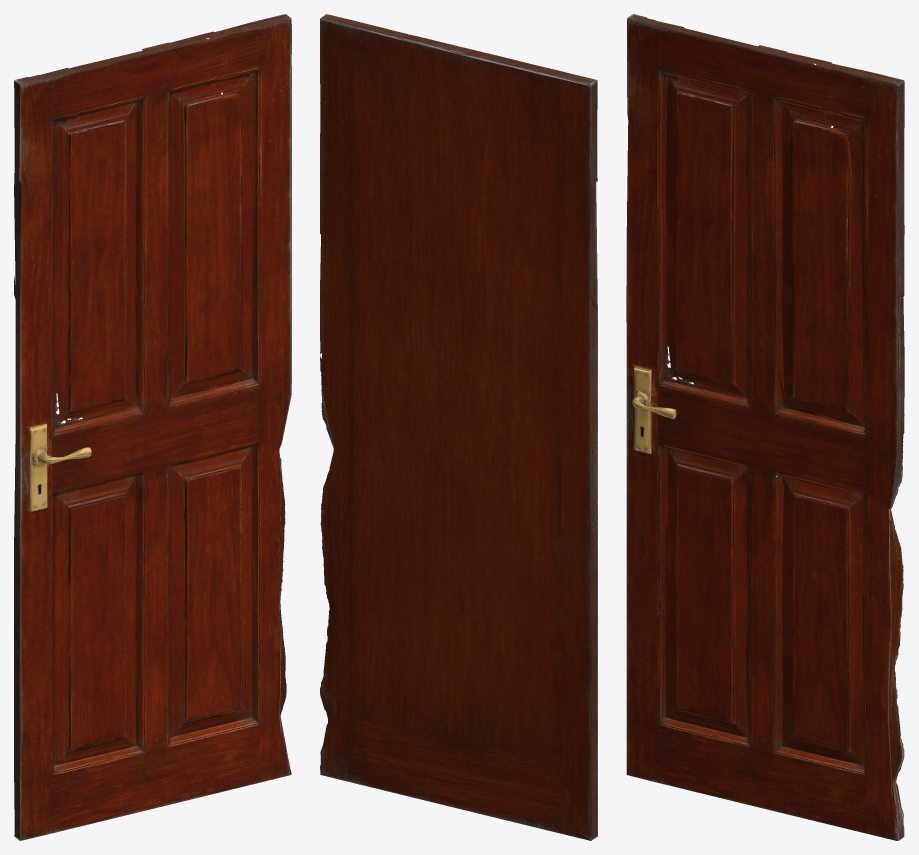
The model's file is w5frontdoor.glb.
3 renders of one model, left to right at view 1: azimuth 30°, elevation 25°; view 2: azimuth 150°, elevation 25°; view 3: azimuth 330°, elevation 25°, orthographic.
Parts seen in each view (by area): view 1: output_unwrapped; view 2: output_unwrapped; view 3: output_unwrapped.
Part boxes in pixels (<box>): output_unwrapped: <box>14,14,291,840</box>; output_unwrapped: <box>320,14,597,840</box>; output_unwrapped: <box>626,14,904,840</box>.
Bounding box in the file's own units: 0.7899 × 2.1 × 0.0969.
Materials: 1 (1 with a texture image).
